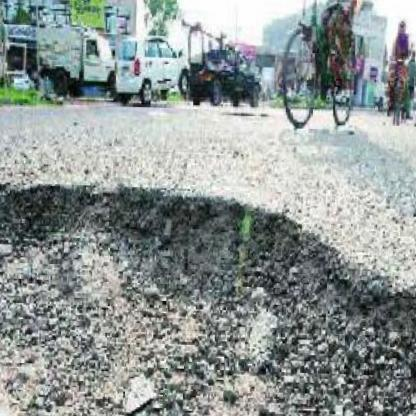pothole: (0, 171, 416, 416)
